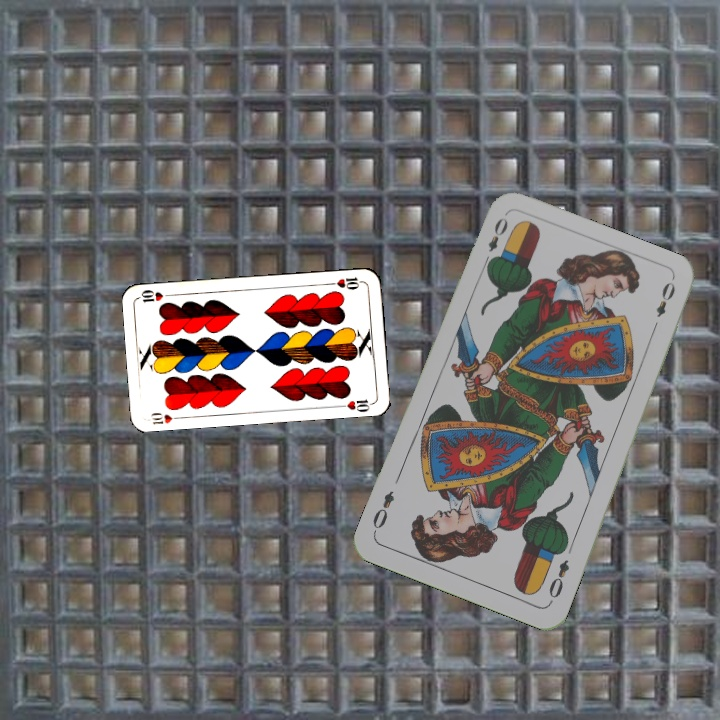EO: (479, 213, 511, 269), (544, 555, 572, 601)
H10: (324, 273, 365, 292), (147, 408, 186, 427)
